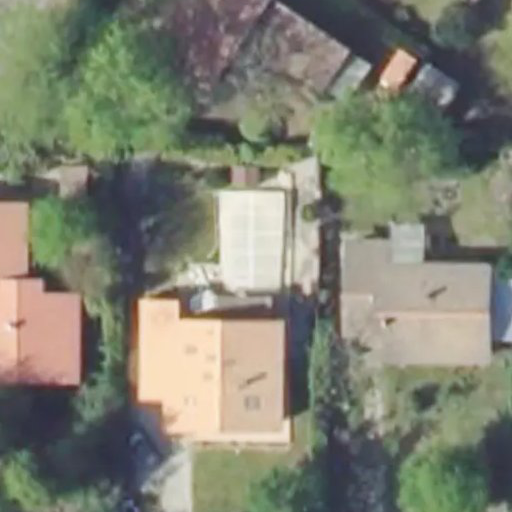pool: (215, 190, 293, 297)
